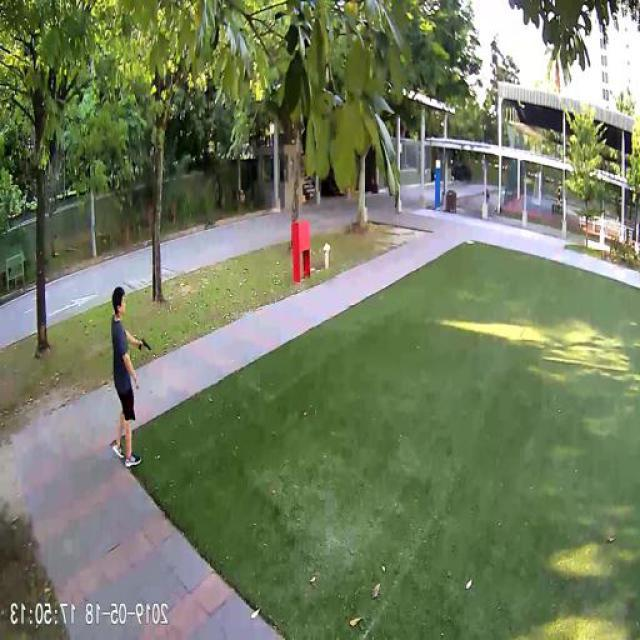Gun: (140, 336, 154, 352)
